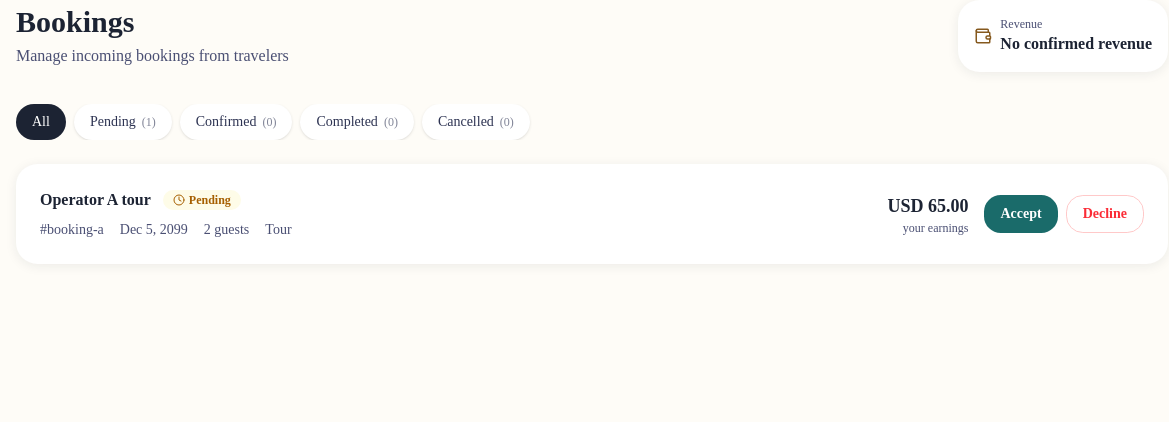
Test: keeps a rejected acceptance pending and out of revenue when the API closes booking eligibility
Step 1. Click the button "Accept" → (1021,214), box [984,195,1058,233]
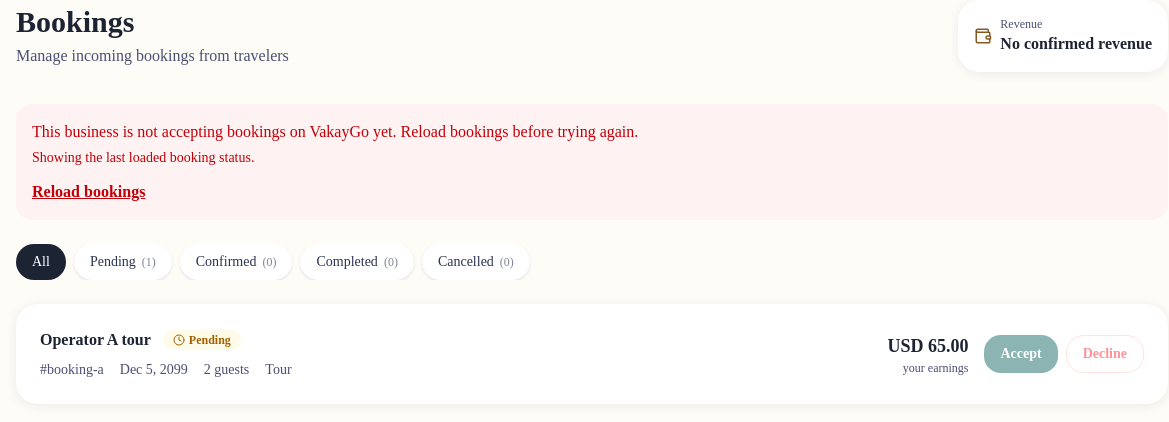
Expected: the message shows "not accepting bookings", [32,123,638,140]
Expected: the button "Accept" is disabled, [984,335,1058,373]
Expected: the button "Reload bookings" is enabled, [32,180,145,204]
